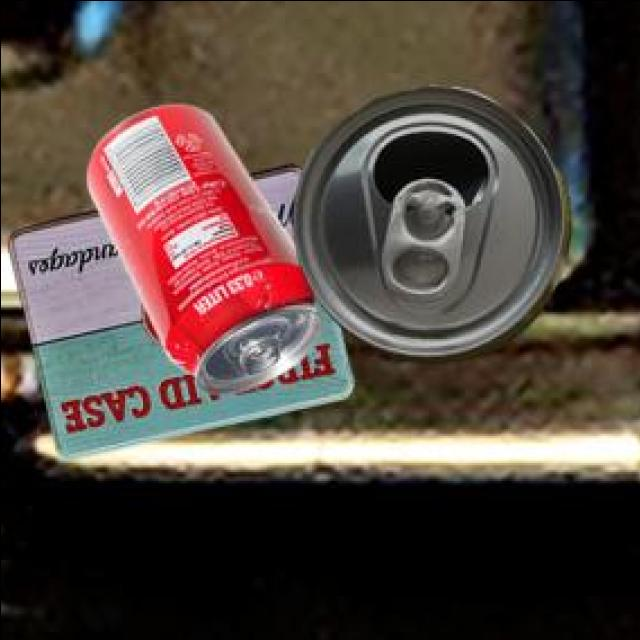logam: (12, 168, 355, 461), (296, 89, 574, 366), (89, 107, 326, 395)
